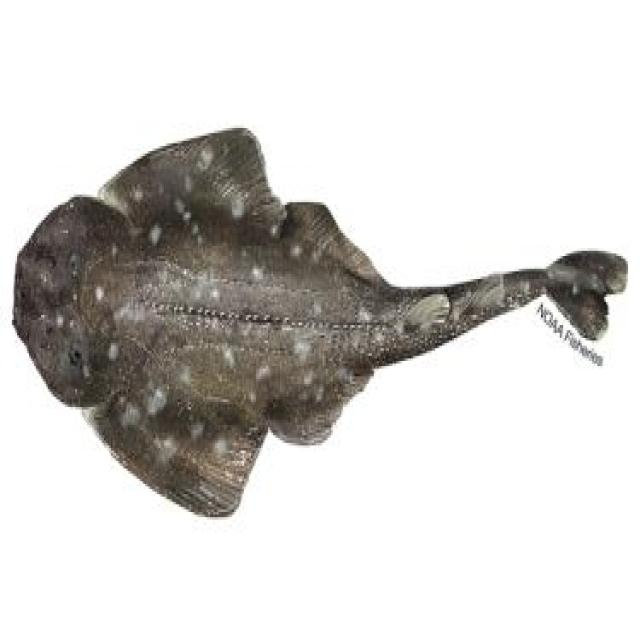gaviota: (12, 128, 626, 515)
